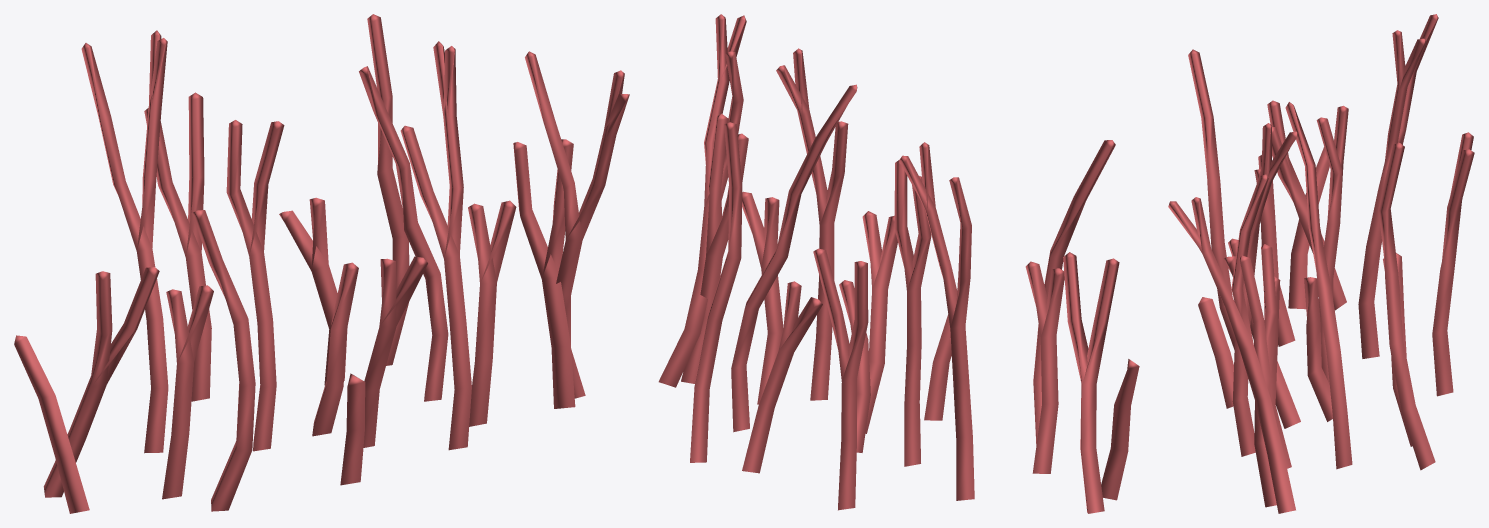
Rendered from coral_sponge_A_light.fbx.
3 renders of one model, left to right at view 1: azimuth 30°, elevation 25°; view 2: azimuth 150°, elevation 25°; view 3: azimuth 270°, elevation 25°, orthographic. The views are drawn at different scales.
Visible parts, largest first — view 1: coral_sponge_A_light; view 2: coral_sponge_A_light; view 3: coral_sponge_A_light.
Boxes of the visible parts, x1=… form: coral_sponge_A_light: x1=14, y1=14, x2=629, y2=513; coral_sponge_A_light: x1=658, y1=14, x2=1139, y2=513; coral_sponge_A_light: x1=1168, y1=14, x2=1474, y2=513.
Bounding box in the file's own units: 152 × 106 × 86.57.
